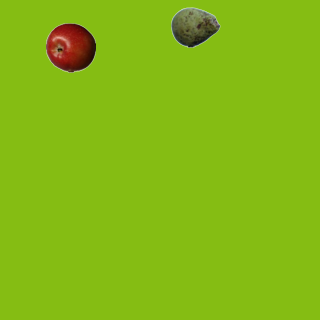Apple Braeburn: (45, 22, 95, 72)
Pear Stone: (170, 2, 220, 52)
